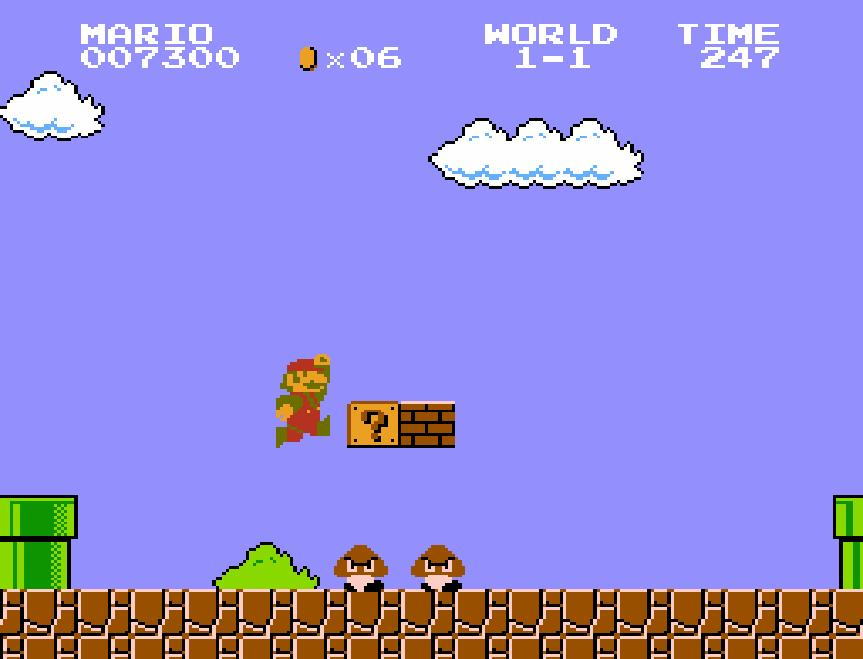big_mario: (274, 352, 332, 450)
